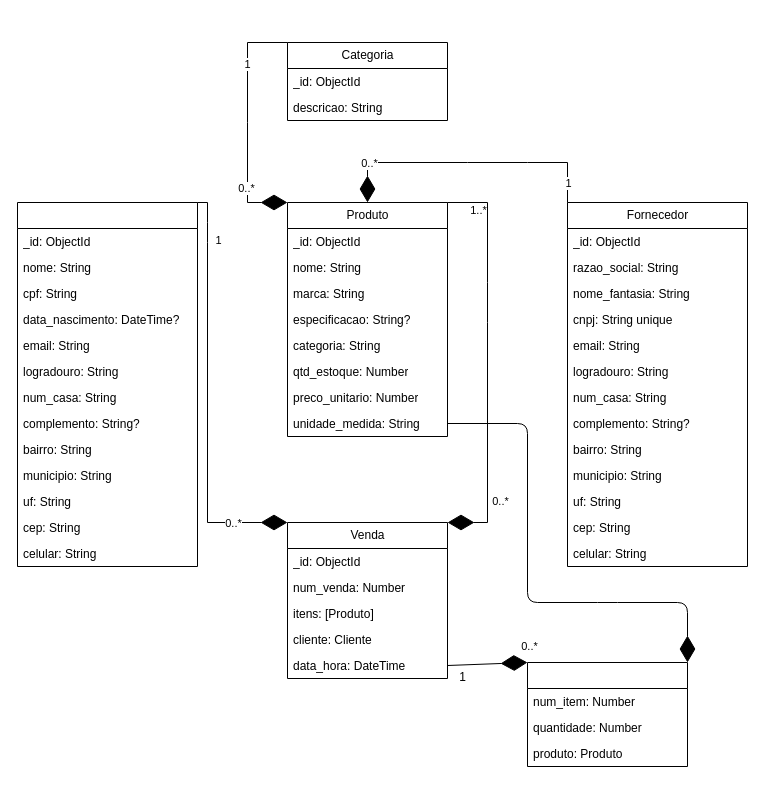
Image size: 765x787. Some labels were removed from this diagram. The shapes that lost their labels are listed below. From the top down, each one's box as (x1, y1, x2, y2) in pixels, then its label:
(16, 202, 198, 566): Cliente
(526, 662, 688, 766): ItemVenda
